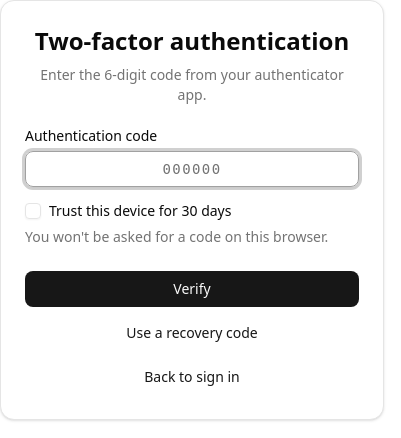
Test case: TwoFactorStep (authenticator code) › drops non-digit characters while typing
The width and height of the screenshot is (401, 438).
In the field labelled "Authentication code": (192, 169) [25,151,359,187], type "12a3-4"
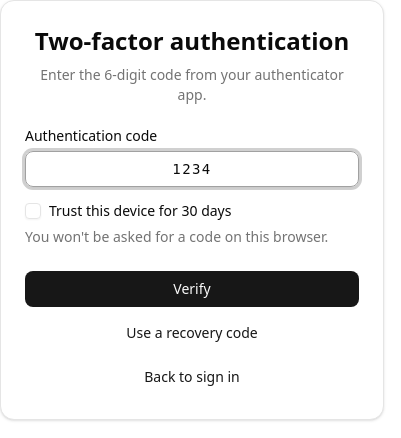
Expected: the field labelled "Authentication code" holds "1234", [25,151,359,187]
